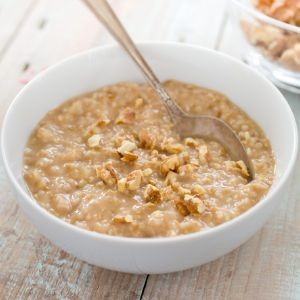oat_brain food: (62, 140, 223, 204)
